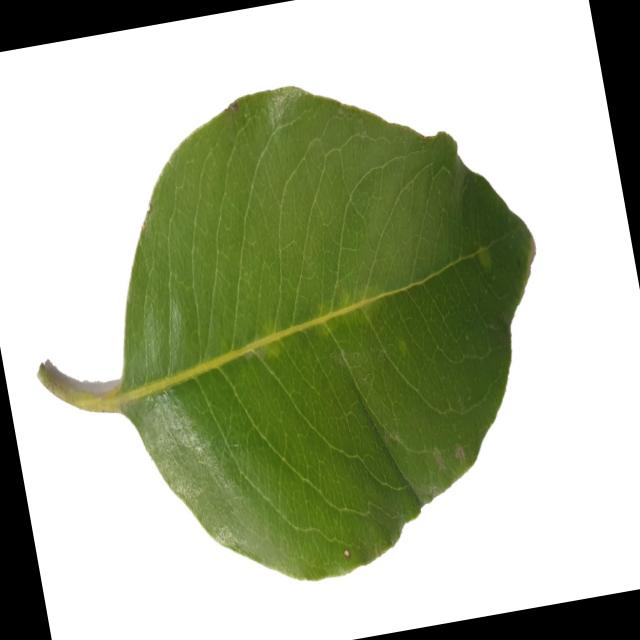Medicinal-Sandalwood: (0, 40, 589, 633)
